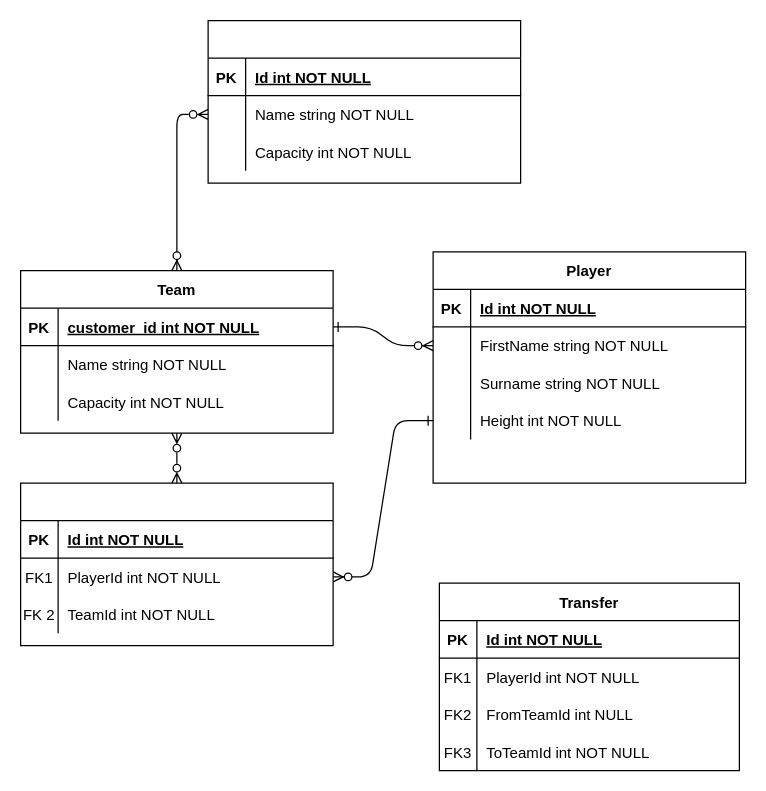
The diagram is 766 pixels wide and 791 high, and some of its shapes have lost their labels. The shapes that lost their labels are listed below. From the top down, each one's box as (x1, y1, x2, y2) in pixels, then its label:
(207, 19, 521, 183): Stadium
(19, 482, 333, 646): TeamMembership
